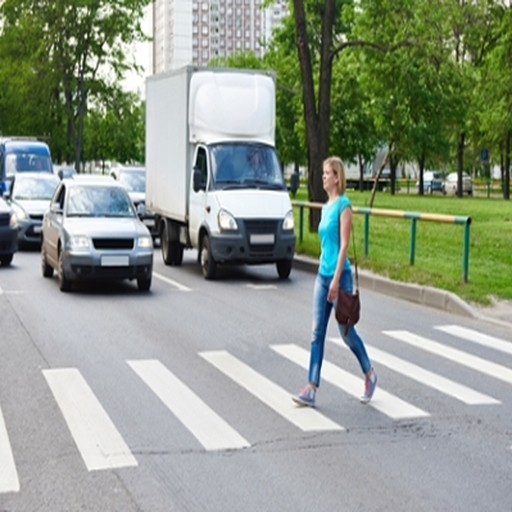Car: (39, 171, 155, 298), (6, 167, 67, 247)
Pedestrian: (294, 149, 384, 410)
Truck: (141, 61, 300, 284)
